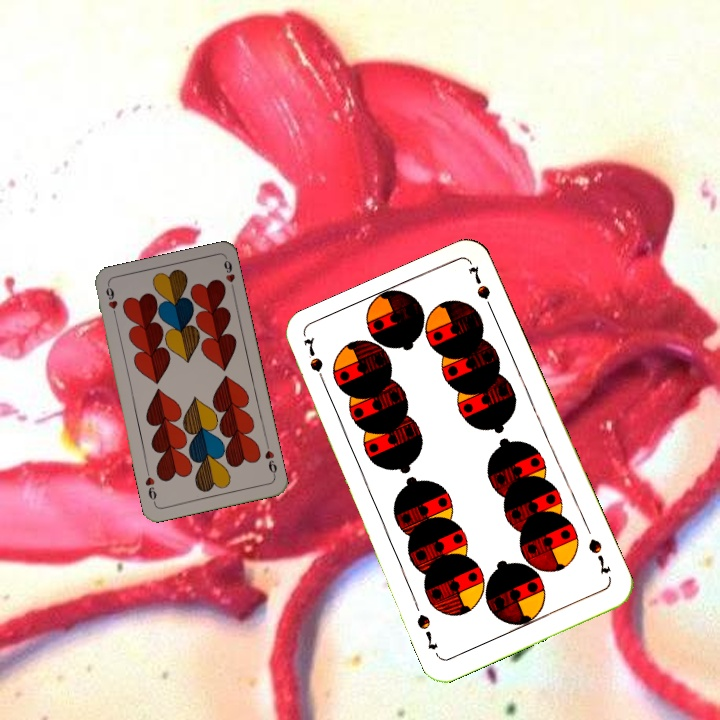H9: (260, 439, 280, 480), (102, 281, 120, 322)
S7: (299, 334, 330, 392), (584, 534, 614, 577)
